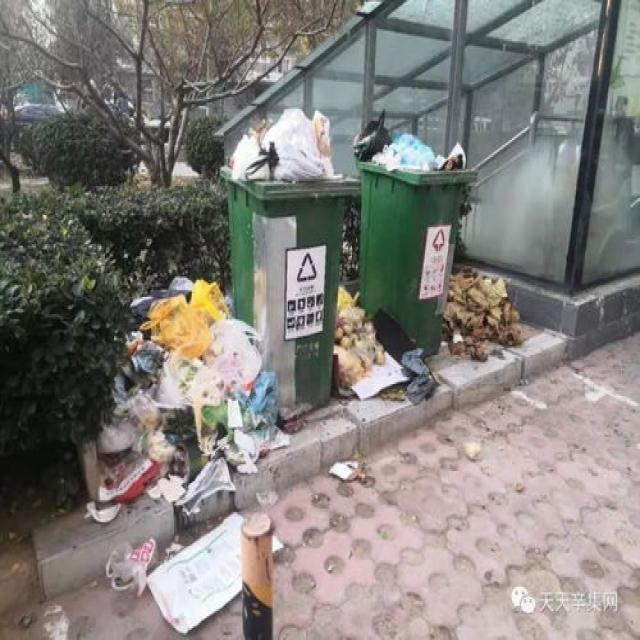garbage: (82, 273, 289, 635), (333, 284, 436, 404), (440, 265, 526, 360)
overflow: (219, 106, 357, 411), (352, 108, 475, 356)
